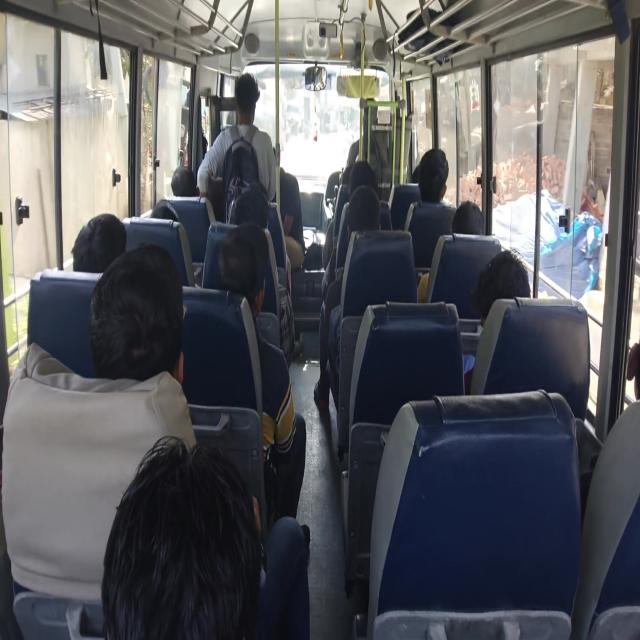person: (124, 434, 271, 634), (98, 255, 182, 427), (476, 246, 527, 320), (348, 186, 394, 247), (418, 146, 461, 210), (626, 307, 640, 500), (77, 212, 123, 270), (230, 189, 270, 255), (221, 228, 259, 290), (232, 69, 262, 136), (454, 202, 486, 260), (246, 173, 281, 225), (164, 162, 196, 214), (153, 180, 186, 223), (349, 154, 374, 190), (411, 162, 430, 200)
